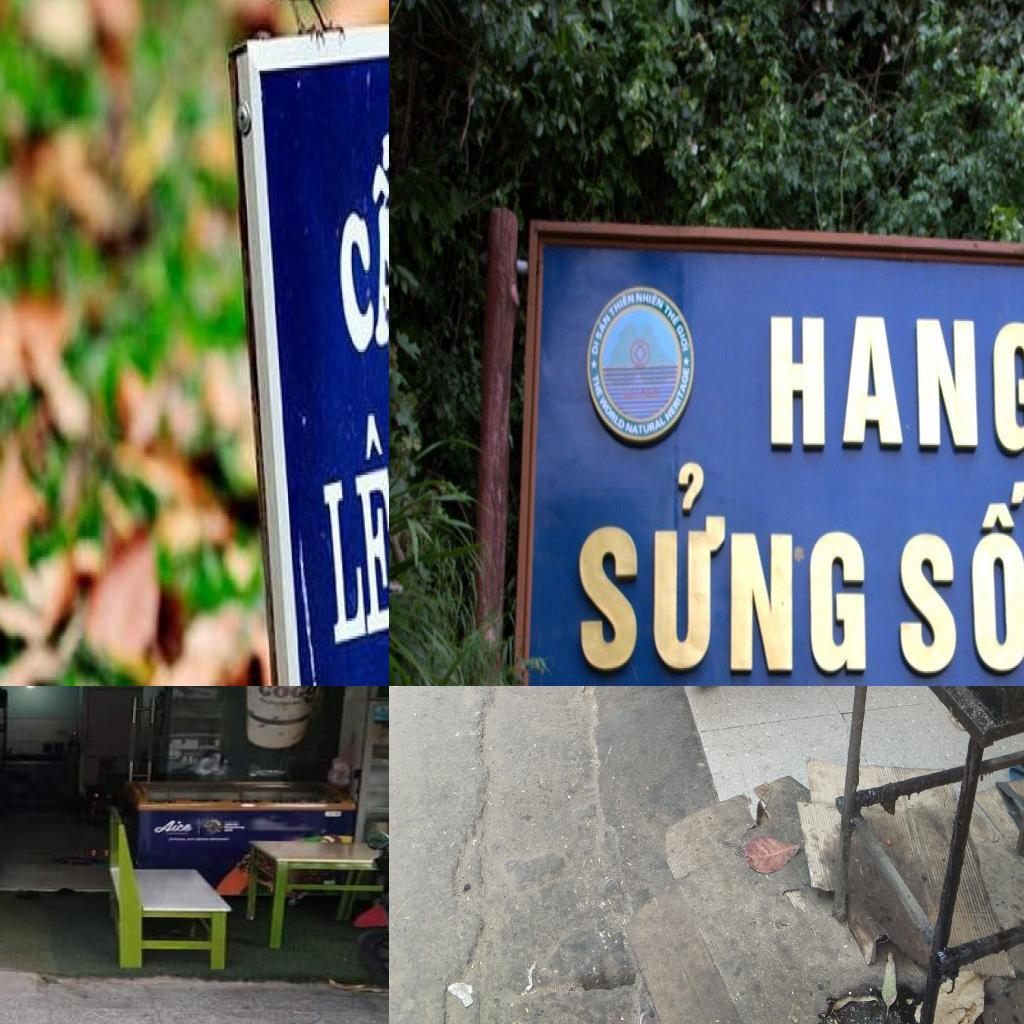text: (575, 458, 867, 674), (770, 314, 1024, 454), (313, 396, 389, 647), (322, 118, 389, 368), (663, 381, 695, 429), (596, 393, 627, 434), (623, 415, 672, 437), (604, 288, 635, 321), (635, 285, 668, 313), (256, 686, 319, 699), (590, 308, 612, 343), (675, 319, 694, 354), (662, 299, 683, 329), (590, 373, 605, 401), (590, 338, 601, 357)
